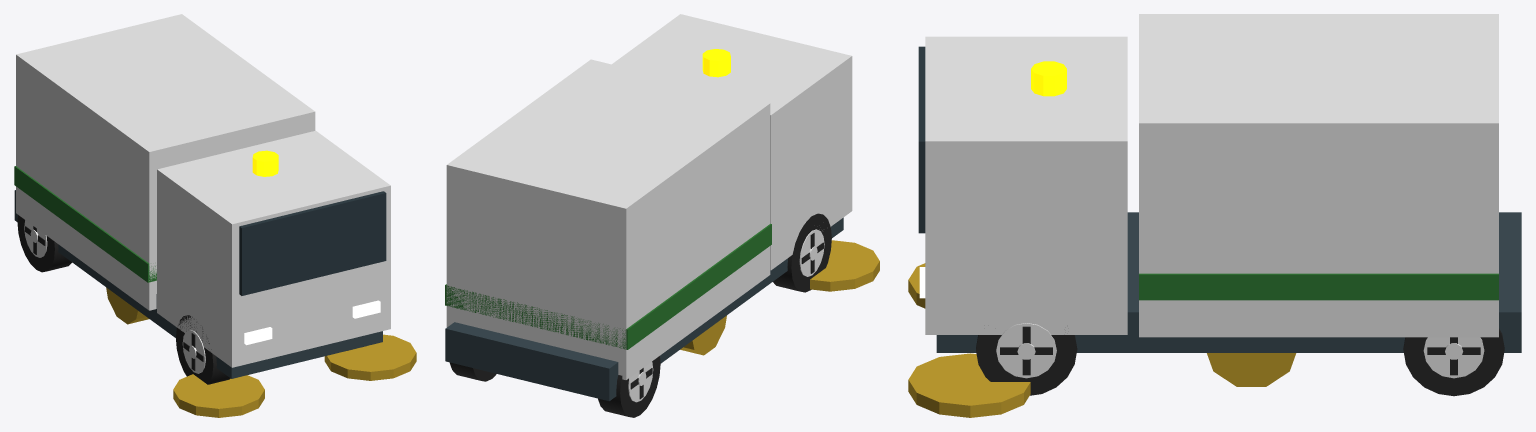
Rendered from town_mw_sweeper.glb.
3 views of the same model, side by side, from view 1: azimuth 30°, elevation 25°; view 2: azimuth 150°, elevation 25°; view 3: azimuth 270°, elevation 25° (orthographic). The views are drawn at different scales.
Visible parts, largest first — view 1: TownMwSweeper_body, Wheel_FR, Wheel_RR; view 2: TownMwSweeper_body, Wheel_FR, Wheel_RR, Wheel_RL; view 3: TownMwSweeper_body, Wheel_FL, Wheel_RL.
Part boxes in pixels (x1,y1,x2,y2): TownMwSweeper_body: [14, 14, 416, 417]; Wheel_FR: [176, 315, 230, 384]; Wheel_RR: [17, 215, 71, 272]; TownMwSweeper_body: [445, 14, 879, 401]; Wheel_FR: [773, 213, 831, 292]; Wheel_RR: [598, 356, 660, 417]; Wheel_RL: [449, 362, 496, 381]; TownMwSweeper_body: [908, 14, 1521, 417]; Wheel_FL: [976, 323, 1077, 395]; Wheel_RL: [1403, 328, 1504, 396].
Size of the model in its own units: 3.2 by 2.7 by 5.45.
